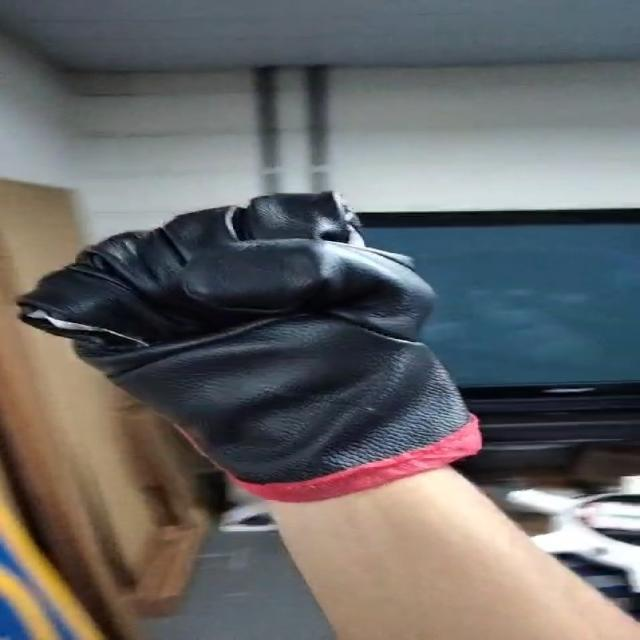Gloves: (28, 188, 482, 499)
